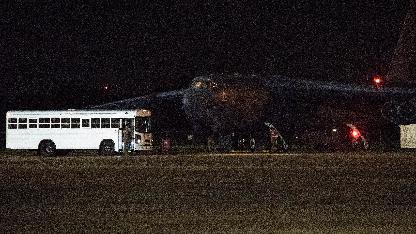B2: (70, 0, 416, 151)
